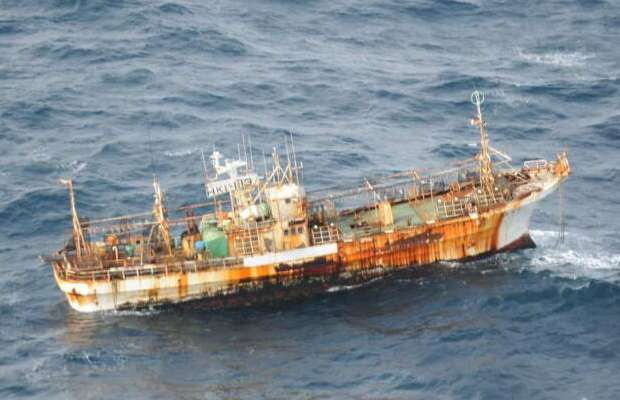rust: (63, 240, 200, 272), (287, 247, 440, 275), (423, 194, 499, 250)
